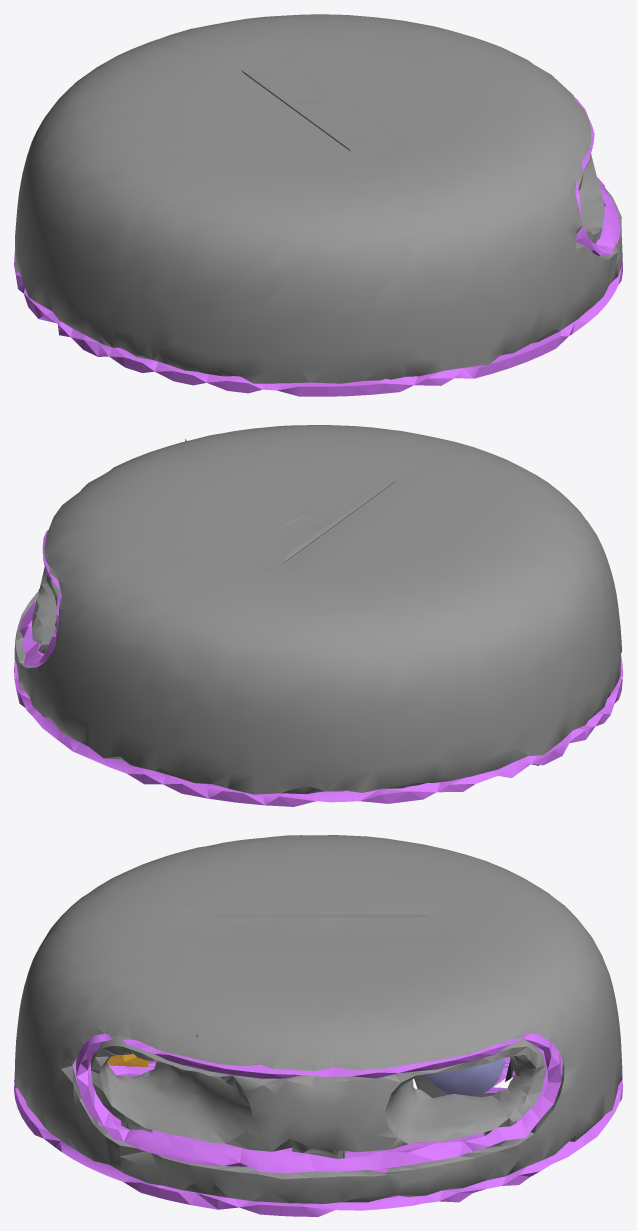
File: lidar_head.glb
The picture shows the model from 3 angles, top to bottom: view 1: azimuth 30°, elevation 25°; view 2: azimuth 150°, elevation 25°; view 3: azimuth 270°, elevation 25°; orthographic projection.
Parts seen in each view (by area): view 1: 6_h0_Opaque(76,76,76), 0_h0_Opaque(177,47,255), 2_h0_Opaque(176,47,255); view 2: 6_h0_Opaque(76,76,76), 0_h0_Opaque(177,47,255), 2_h0_Opaque(176,47,255); view 3: 6_h0_Opaque(76,76,76), 2_h0_Opaque(176,47,255), 0_h0_Opaque(177,47,255), 5_h0_Opaque(128,128,255), 4_h0_Opaque(21,21,21).
Boxes of the visible parts, x1=… form: 6_h0_Opaque(76,76,76): x1=15, y1=14, x2=622, y2=383; 0_h0_Opaque(177,47,255): x1=14, y1=243, x2=622, y2=396; 2_h0_Opaque(176,47,255): x1=574, y1=97, x2=620, y2=255; 6_h0_Opaque(76,76,76): x1=14, y1=425, x2=621, y2=794; 0_h0_Opaque(177,47,255): x1=14, y1=644, x2=622, y2=806; 2_h0_Opaque(176,47,255): x1=19, y1=530, x2=61, y2=667; 6_h0_Opaque(76,76,76): x1=14, y1=835, x2=622, y2=1203; 2_h0_Opaque(176,47,255): x1=76, y1=1033, x2=561, y2=1173; 0_h0_Opaque(177,47,255): x1=14, y1=1034, x2=622, y2=1216; 5_h0_Opaque(128,128,255): x1=425, y1=1058, x2=505, y2=1095; 4_h0_Opaque(21,21,21): x1=414, y1=1057, x2=513, y2=1097.
Size of the model in its own units: 0.0725 by 0.0247 by 0.0725.
